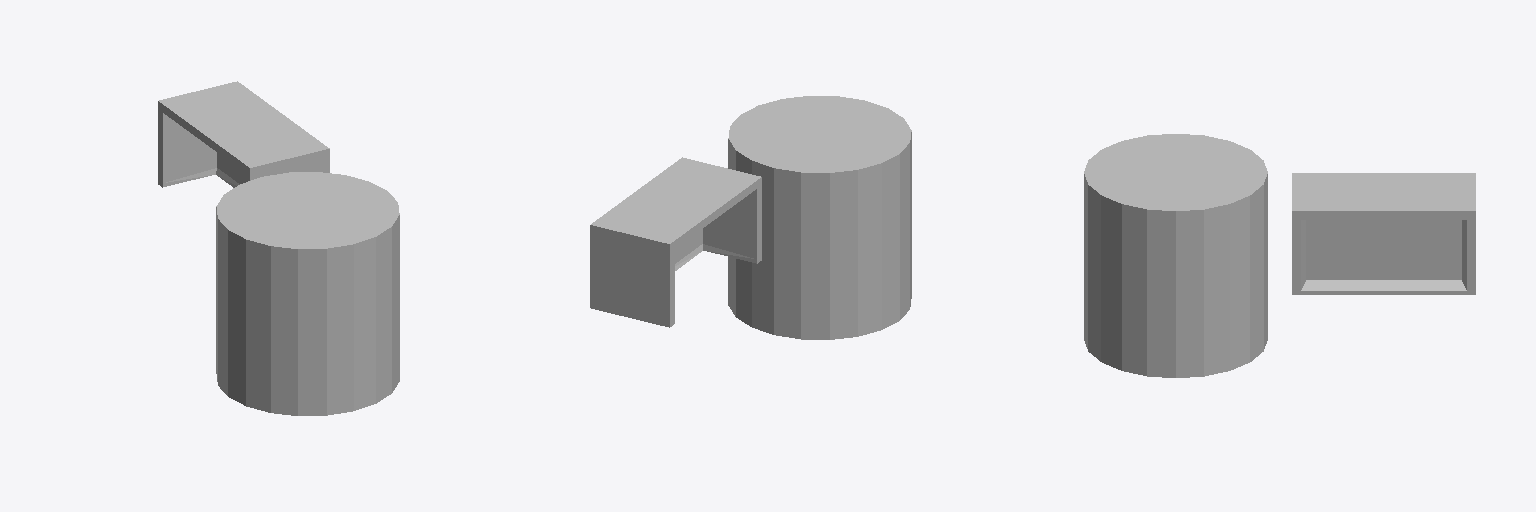
File: Reception.obj
3 renders of one model, left to right at view 1: azimuth 30°, elevation 25°; view 2: azimuth 150°, elevation 25°; view 3: azimuth 270°, elevation 25°, orthographic.
Visible parts, largest first — view 1: pCylinder1, pCube1; view 2: pCylinder1, pCube1; view 3: pCylinder1, pCube1.
Boxes of the visible parts, <box> form: pCylinder1: <box>216,172,399,415</box>; pCube1: <box>158,81,329,187</box>; pCylinder1: <box>728,96,911,339</box>; pCube1: <box>590,157,761,327</box>; pCylinder1: <box>1084,134,1267,377</box>; pCube1: <box>1292,173,1475,294</box>.
Bounding box in the file's own units: 2 × 2 × 4.26.